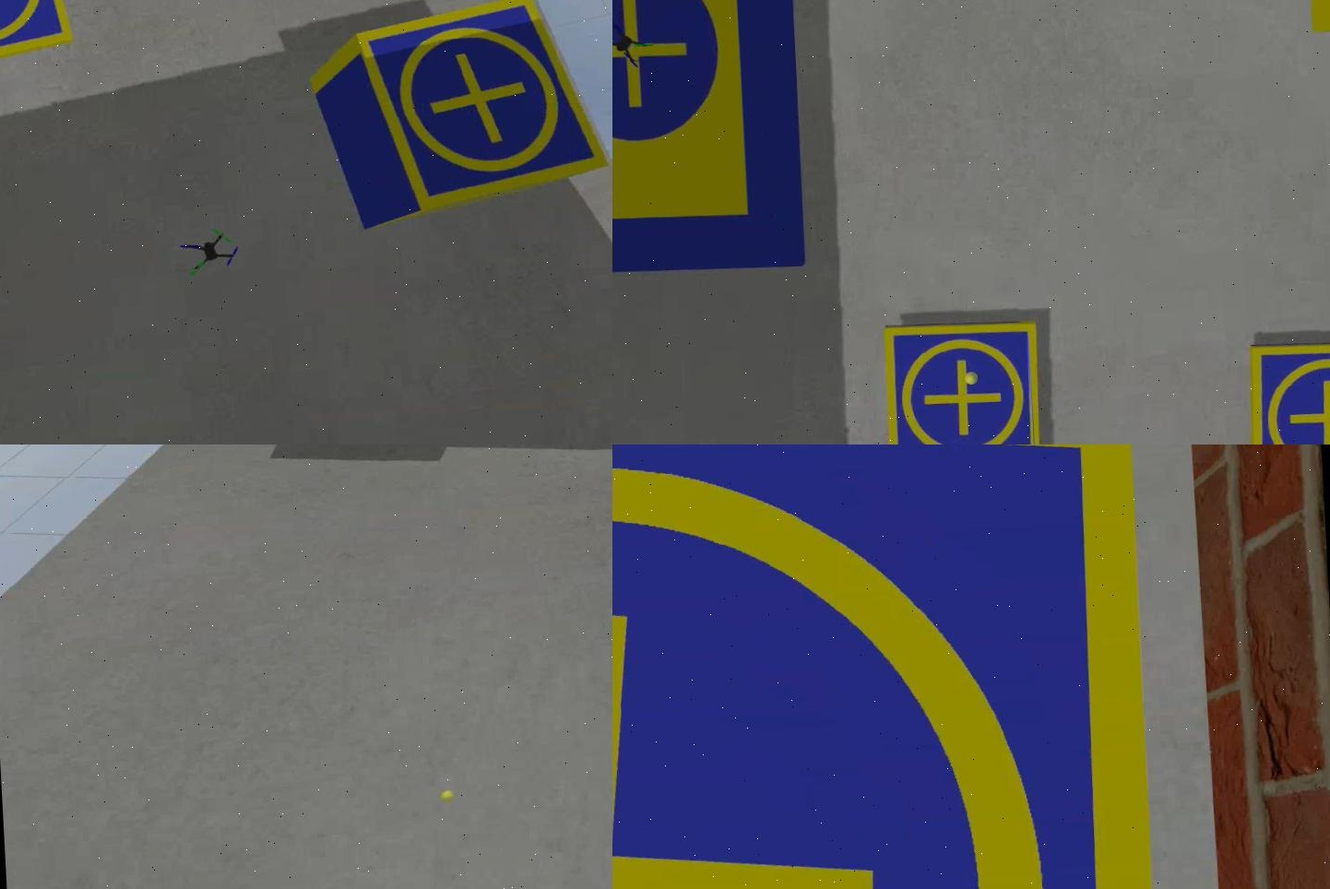large_base: (611, 1, 809, 282)
small_base: (611, 445, 1170, 889), (349, 1, 611, 221), (880, 315, 1046, 445), (1246, 334, 1328, 445)
